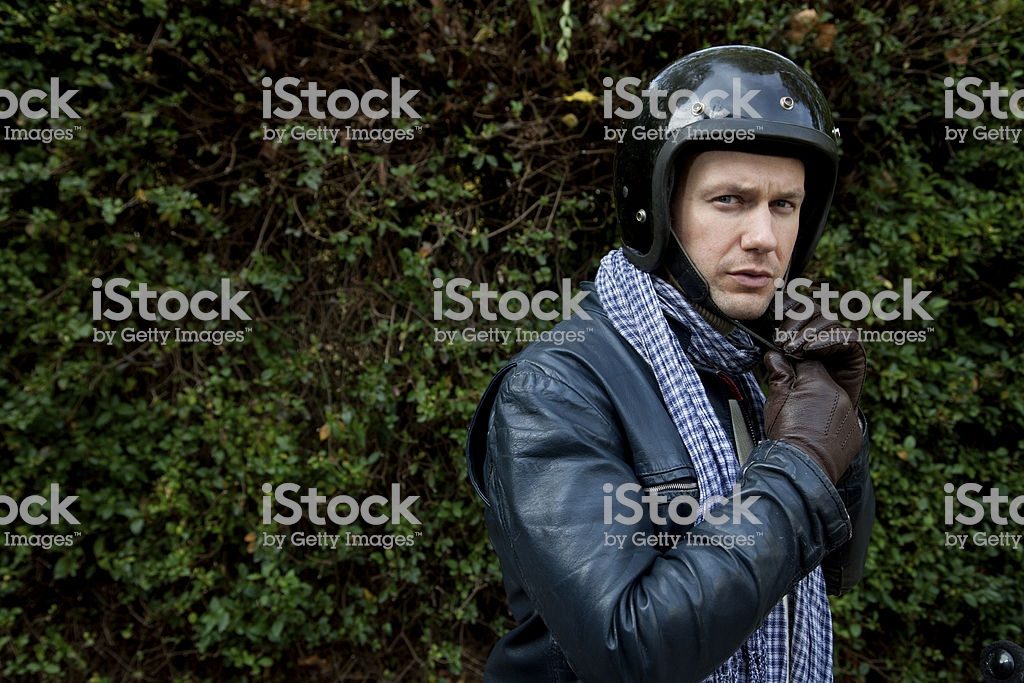helmet: (606, 47, 854, 195)
